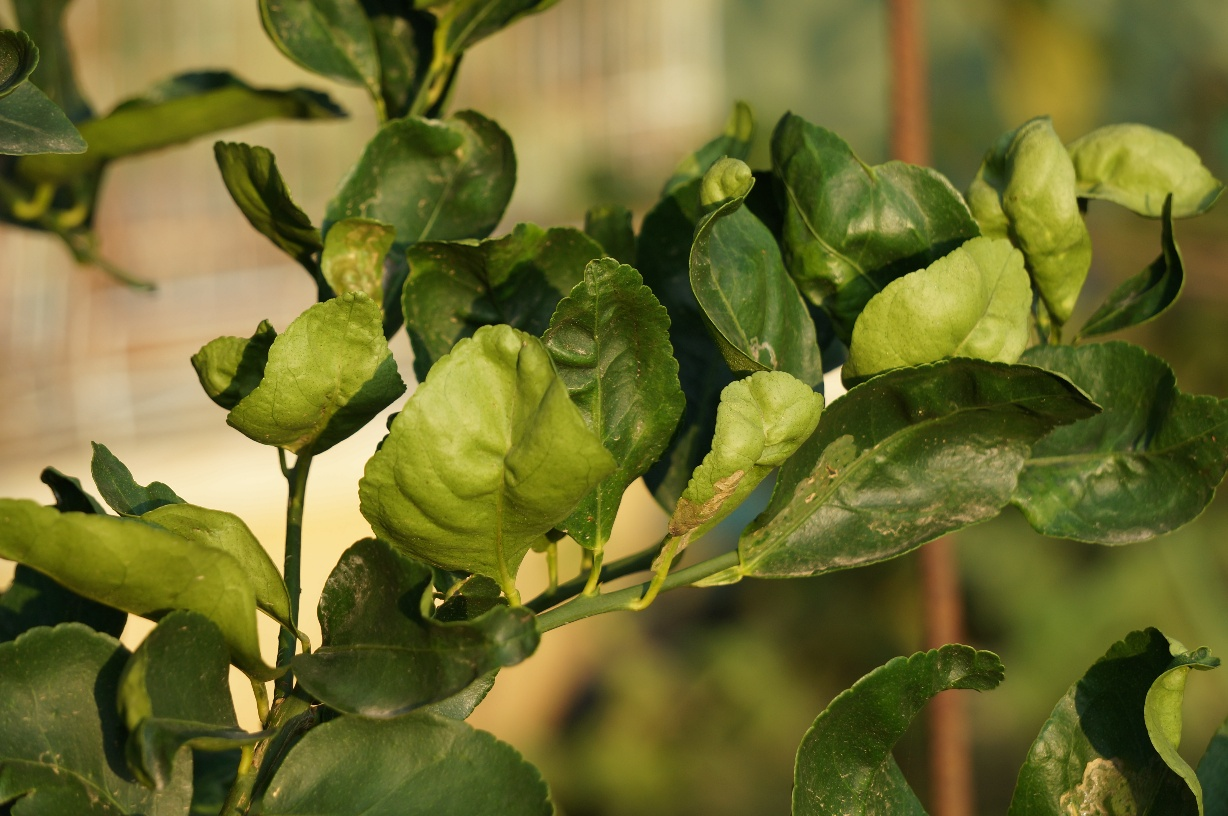damage: (749, 427, 865, 569), (1057, 745, 1166, 816), (746, 328, 783, 377)
